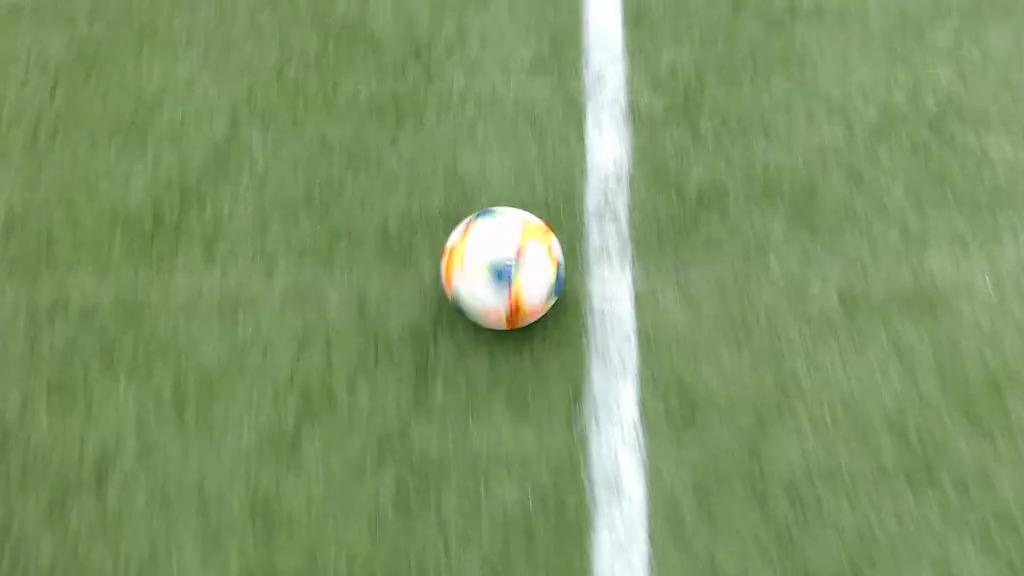ball: (440, 205, 565, 331)
